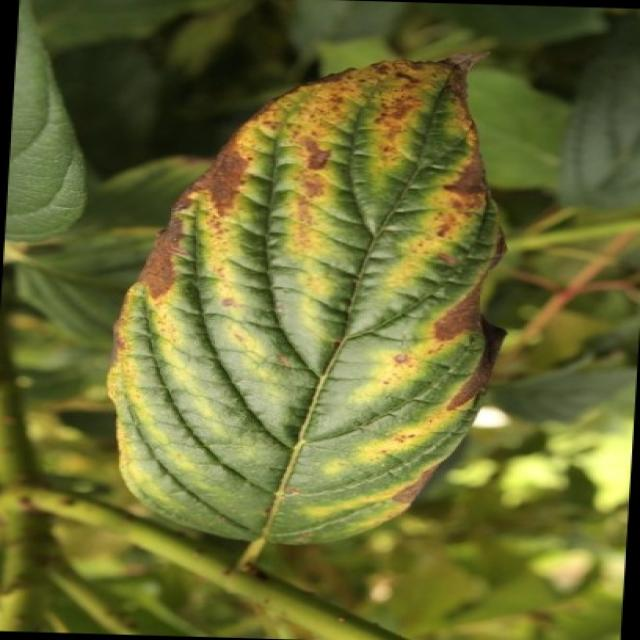Chlorosis: (120, 60, 500, 558)
